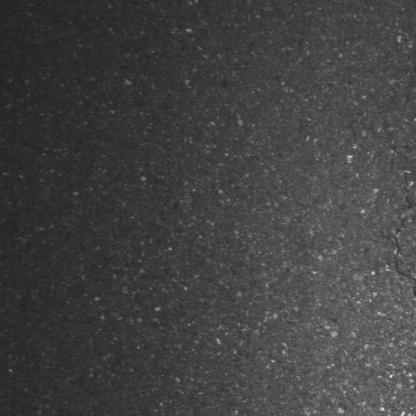Cracks: (389, 170, 416, 341)
